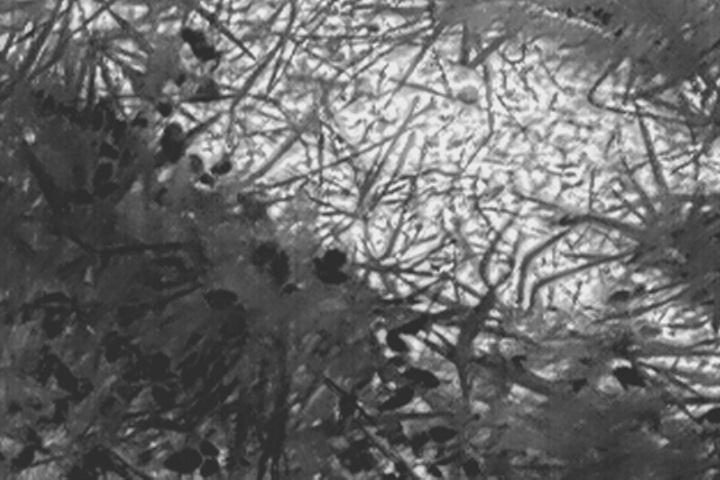landmine: (290, 2, 641, 196)
